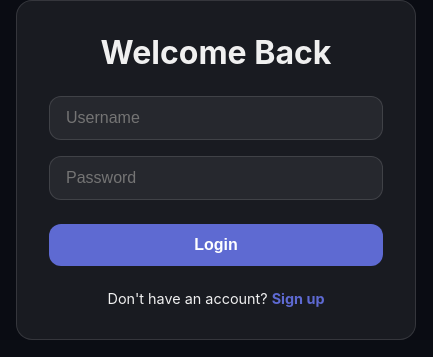
Test: Login Component › switches to signup form
What coordinates should you click on to do the following:
click the text "Sign up"
I would click on:
 (298, 298)
Its box is [272, 290, 324, 307].
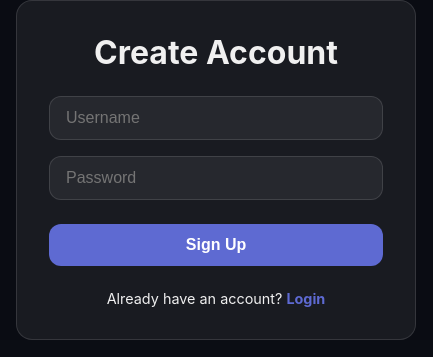
Check: the heading "Create Account" is shown, box [94, 33, 338, 72]
Check: the button "Sign Up" is shown, box [49, 224, 383, 266]
